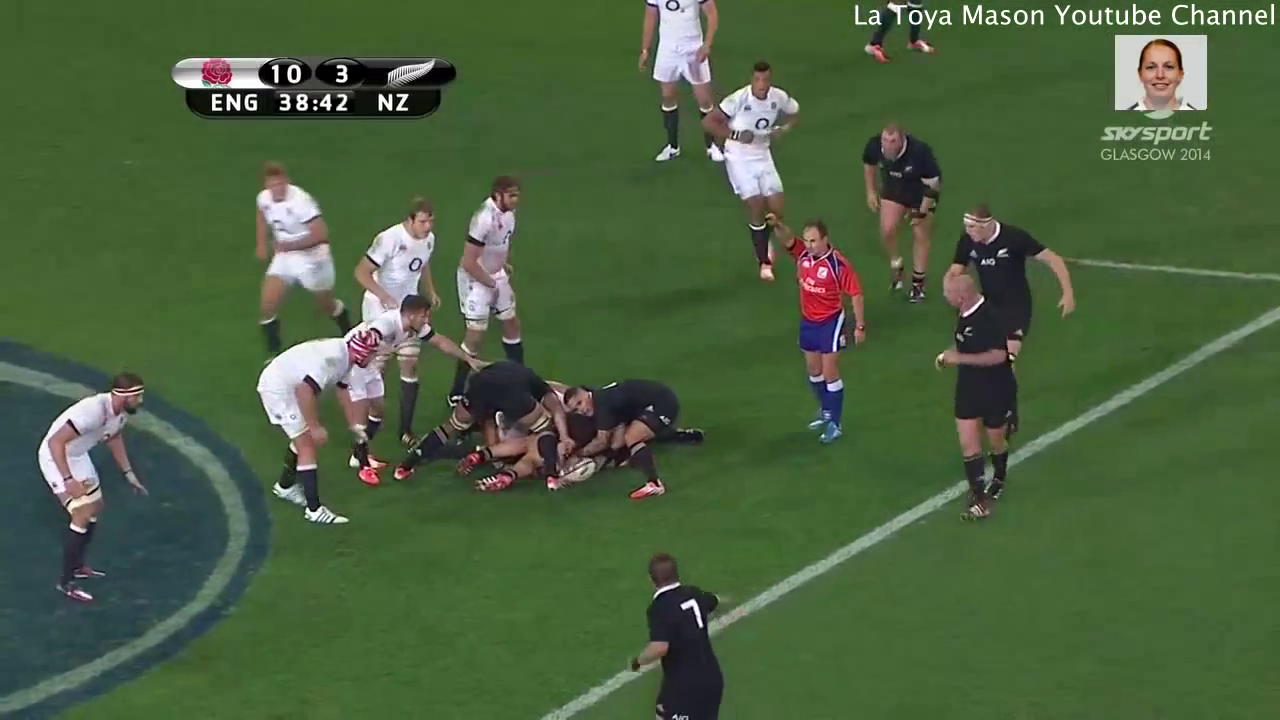ball: (549, 444, 604, 489)
player: (241, 316, 381, 538), (37, 366, 153, 607), (755, 201, 866, 448), (393, 355, 564, 502), (345, 189, 437, 456), (241, 156, 353, 375), (701, 57, 807, 284), (921, 271, 1014, 522), (948, 200, 1079, 369), (448, 168, 538, 412), (619, 535, 724, 720), (853, 121, 948, 311), (559, 375, 697, 504), (629, 1, 738, 162)
